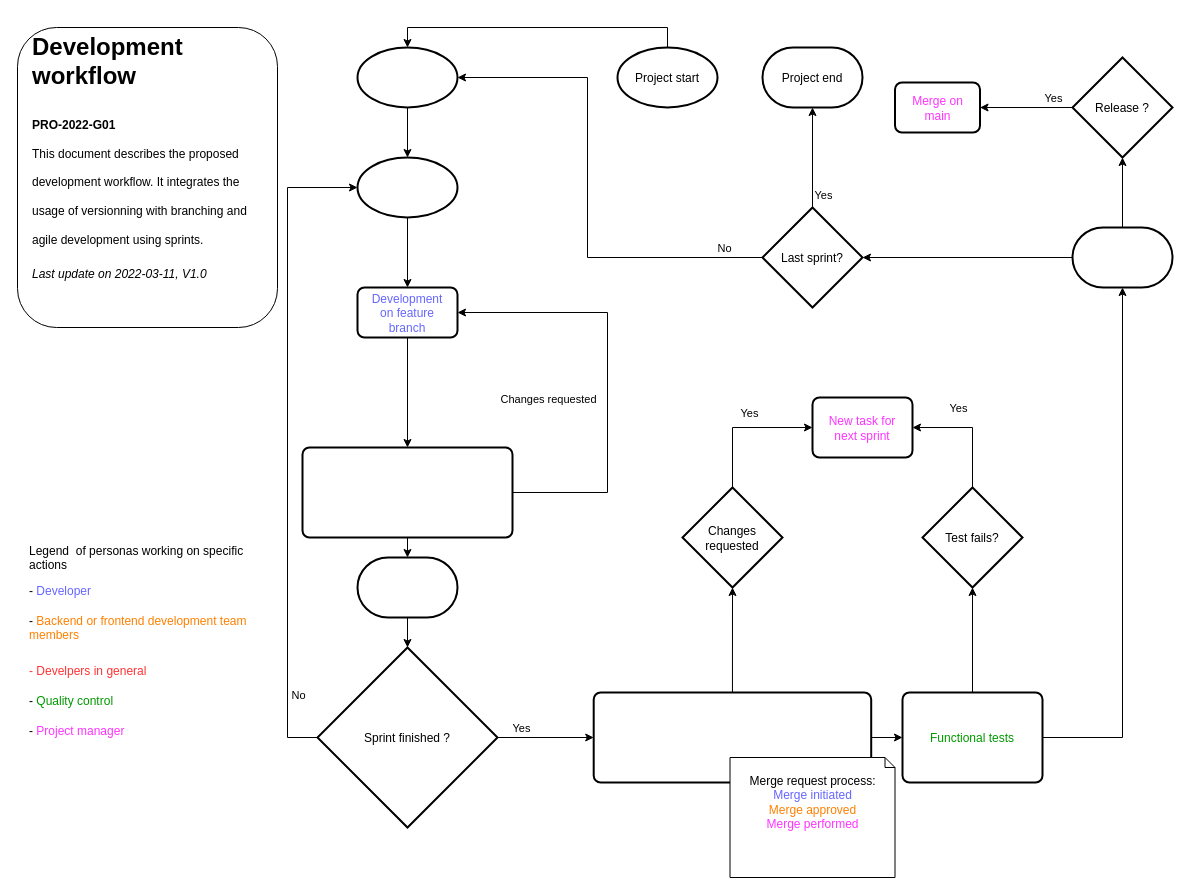
Some shapes in this 1191 by 895 pixel diagram are drawn without their labels. The shapes that lost their labels are listed below. From the top down, each one's centre as x and y in pixels, then its label:
point 407,77: Sprint start
point 407,187: New feature
point 1122,257: Sprint end
point 407,492: - Merge request on dev/<part> - ci-tests - peer-review
point 407,587: Feature completed
point 732,737: - Merge request on dev branch - quality-review
